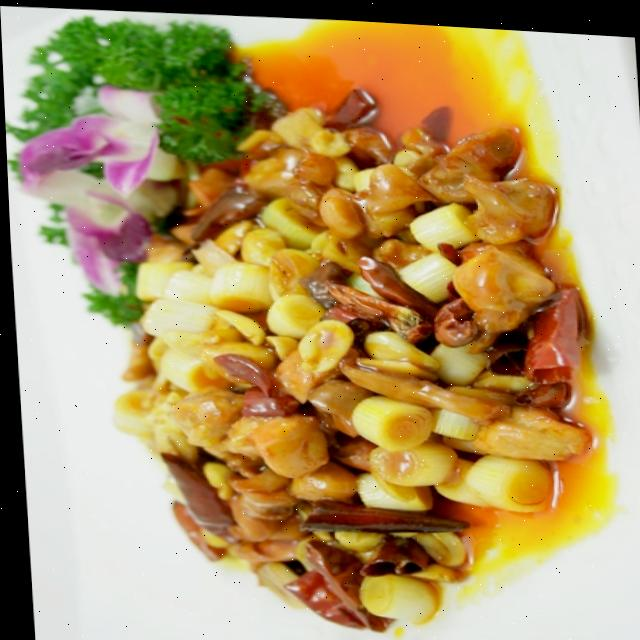鸡肉料理 含炸鸡: (0, 0, 618, 640)
